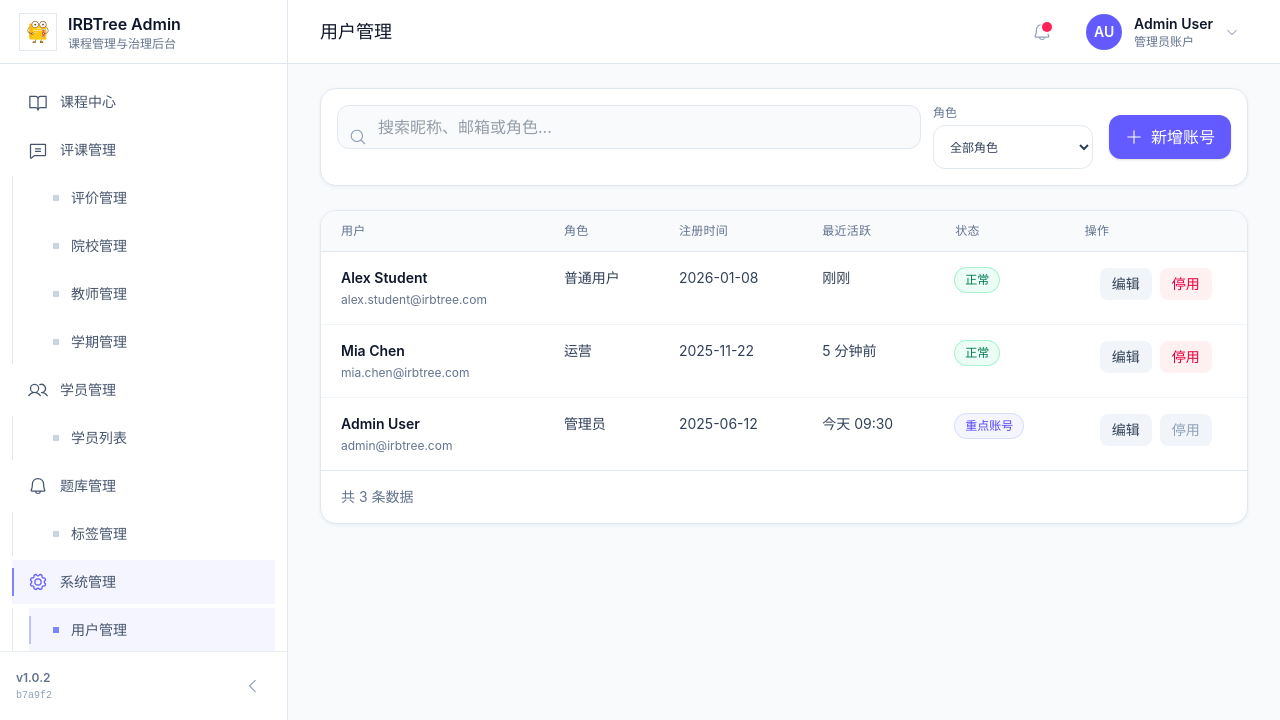
Test: Admin page behaviors › does not treat another account with the admin email as self when ids differ
Step 1. Click the button "编辑" in the row of "Alex Student" → (1126, 284), box [1100,268,1152,300]
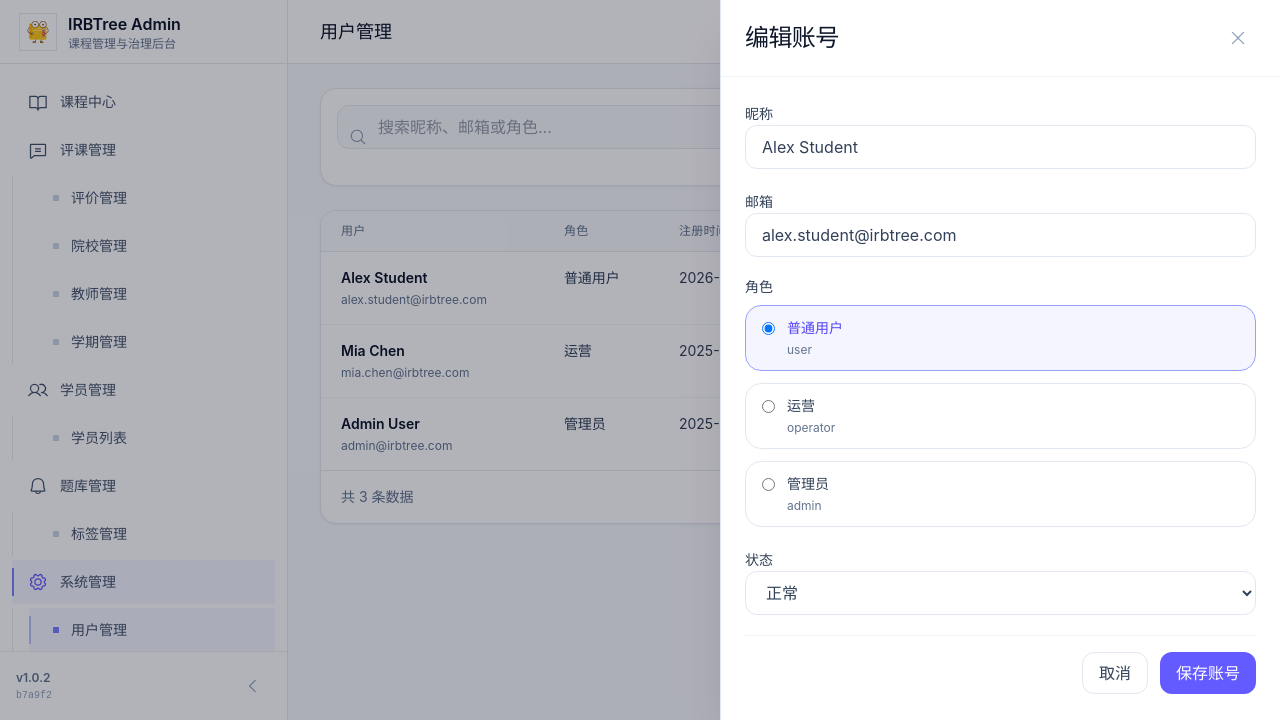
Step 2. Replace the text in the field labelled "邮箱" with "admin@irbtree.com" → (1000, 235), box [745,213,1256,257]
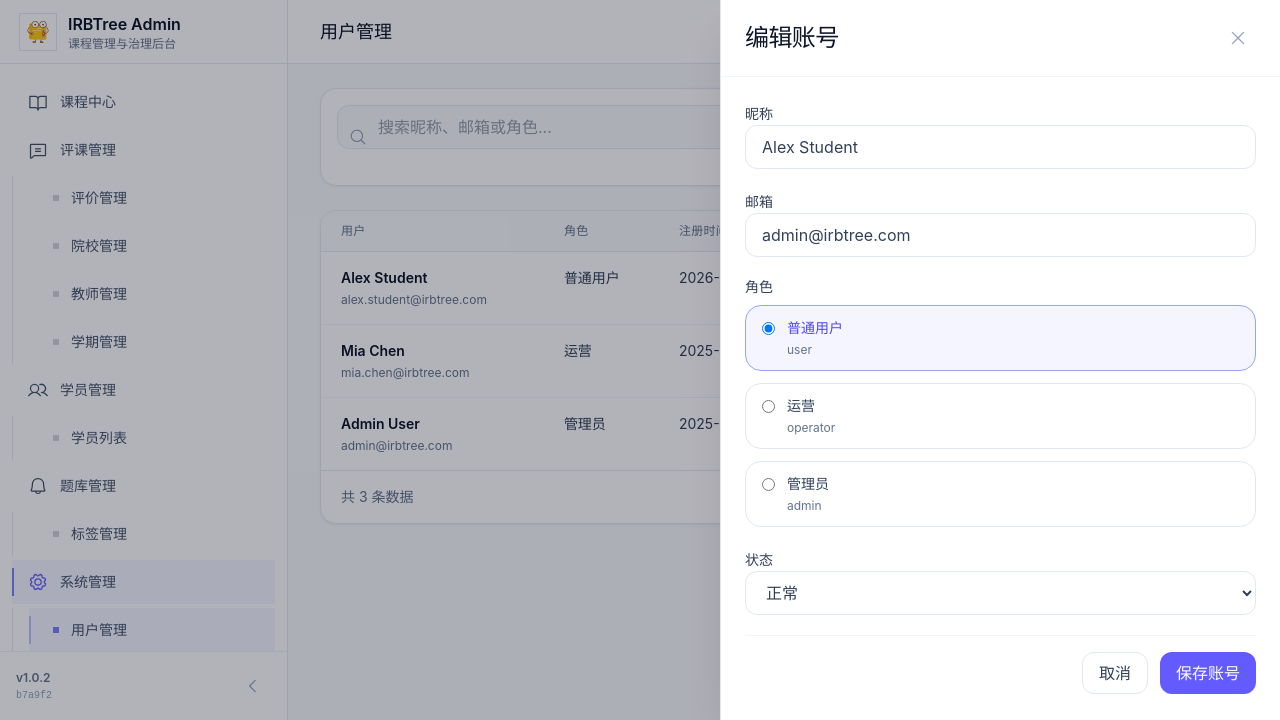
Step 3. Click the button "保存账号" → (1208, 673), box [1160,652,1256,694]
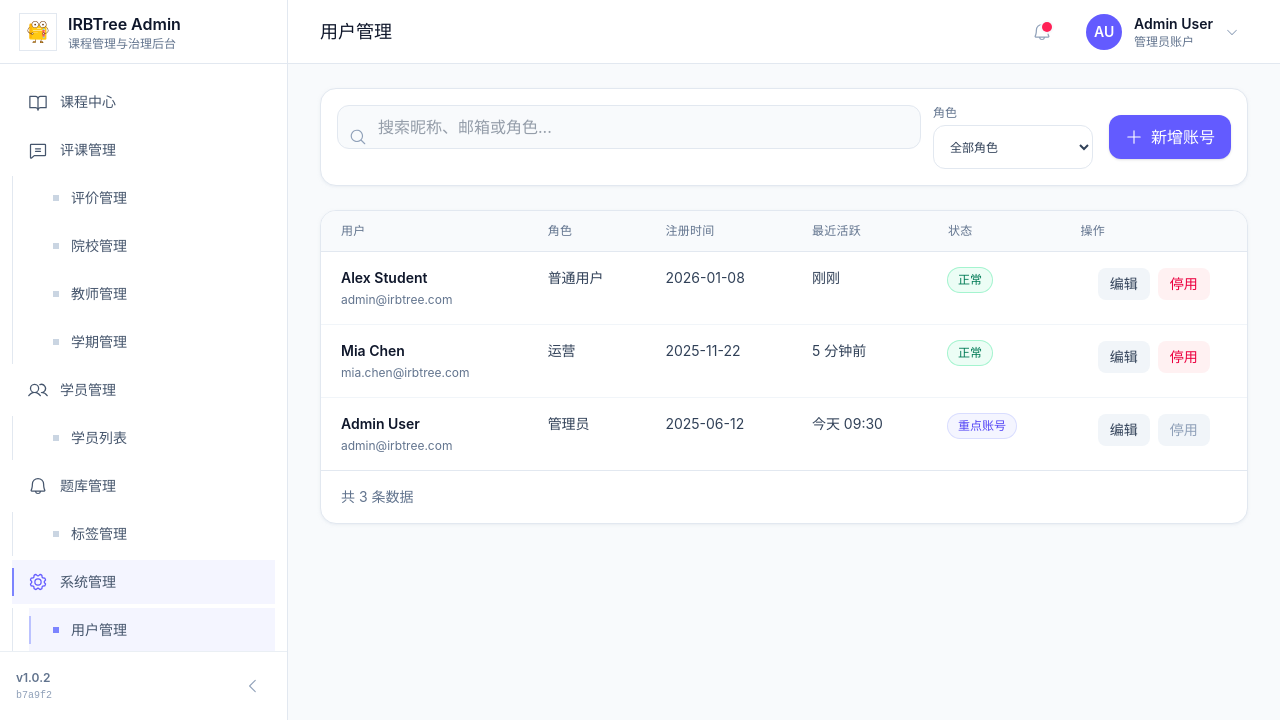
Expected: the button "停用" in the row of "Alex Student" is enabled, [1158,268,1210,300]
Now the text "admin@irbtree.com" below "Alex Student" is shown, box [341,292,452,307]
Step 4. Click the button "编辑" in the row of "Alex Student" → (1124, 284), box [1098,268,1150,300]
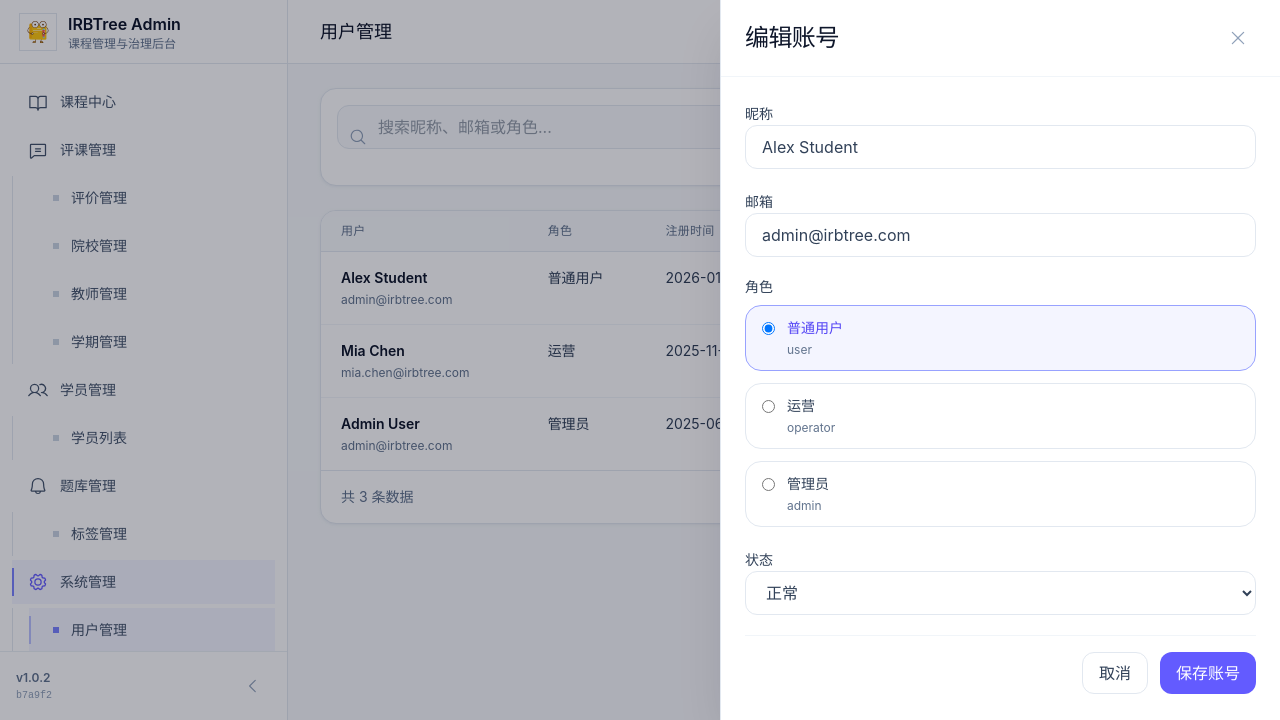
Now the radio button labelled "普通用户" is enabled, box [762,322,775,335]
Now the dropdown labelled "状态" is enabled, box [745,571,1256,615]
